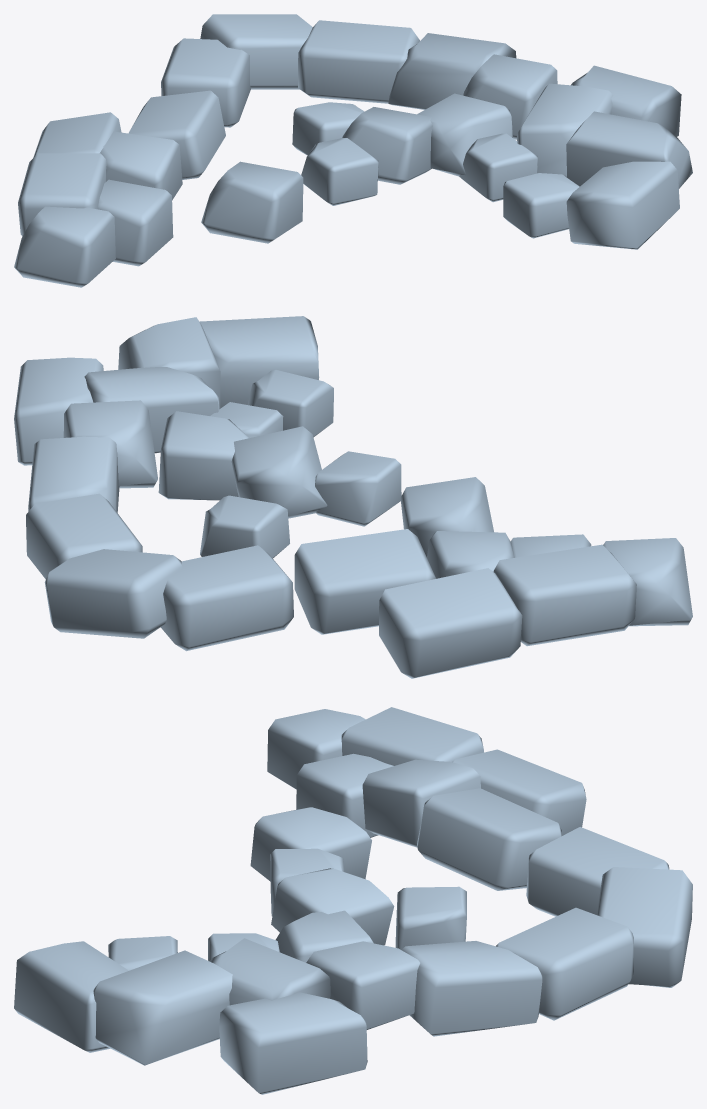
File: Floor_Break_02D_Lod0.fbx
3 renders of one model, top to bottom at view 1: azimuth 30°, elevation 25°; view 2: azimuth 150°, elevation 25°; view 3: azimuth 270°, elevation 25°, orthographic. The views are drawn at different scales.
Parts seen in each view (by area): view 1: Floor_Break_02D_Lod0; view 2: Floor_Break_02D_Lod0; view 3: Floor_Break_02D_Lod0.
Boxes of the visible parts, x1=… form: Floor_Break_02D_Lod0: x1=14, y1=14, x2=692, y2=287; Floor_Break_02D_Lod0: x1=14, y1=316, x2=692, y2=678; Floor_Break_02D_Lod0: x1=14, y1=707, x2=692, y2=1094.
Size of the model in its own units: 342 by 42.03 by 276.
